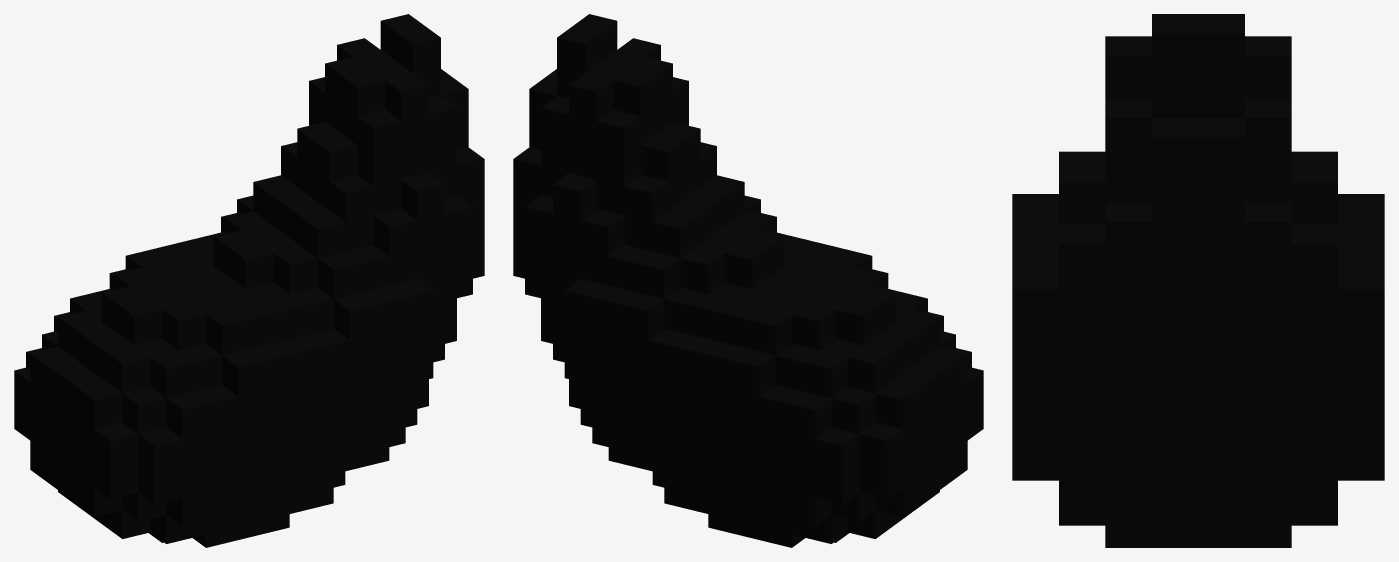
The model's file is Eggplant.obj.
3 views of the same model, side by side, from view 1: azimuth 30°, elevation 25°; view 2: azimuth 150°, elevation 25°; view 3: azimuth 270°, elevation 25° (orthographic). The views are drawn at different scales.
Size of the model in its own units: 1.4 by 1.5 by 0.8.
